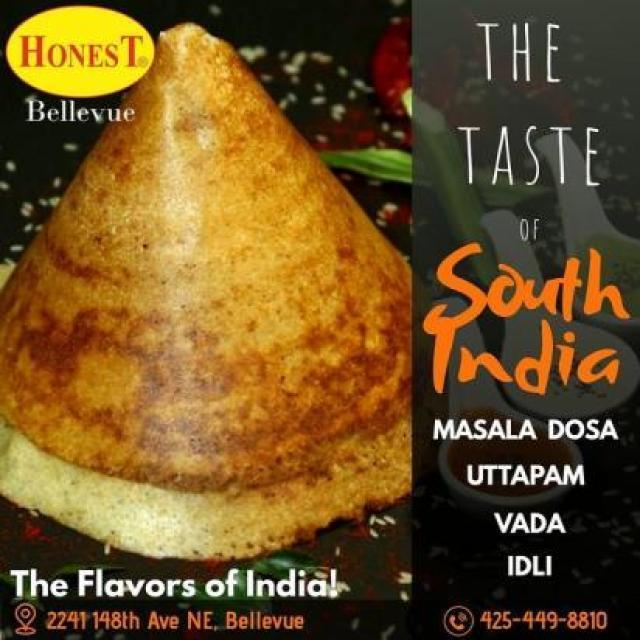dosa: (0, 19, 415, 568)
